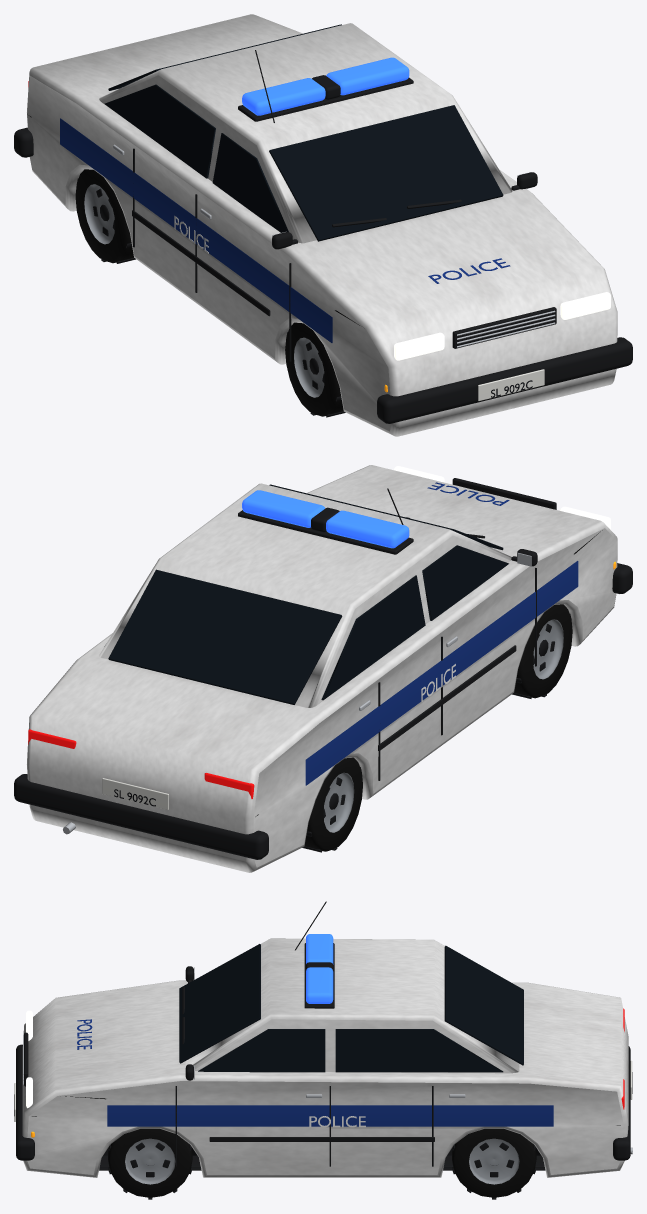
Rendered from auto_policja.glb.
The picture shows the model from 3 angles, top to bottom: view 1: azimuth 30°, elevation 25°; view 2: azimuth 150°, elevation 25°; view 3: azimuth 270°, elevation 25°; orthographic projection. The views are drawn at different scales.
Parts seen in each view (by area): view 1: TintKaroseria, Detale, Kolo3, Kolo1, KogutL, KogutP, Reflektor, Reflektor.001; view 2: TintKaroseria, Detale, Kolo3, Kolo1, KogutL, KogutP; view 3: TintKaroseria, Detale, Kolo4, Kolo2, KogutP, KogutL.
Part boxes in pixels (bbox=[...]): TintKaroseria: bbox=[27, 14, 617, 436]; Detale: bbox=[14, 24, 632, 423]; Kolo3: bbox=[75, 169, 135, 263]; Kolo1: bbox=[285, 322, 345, 417]; KogutL: bbox=[242, 78, 325, 115]; KogutP: bbox=[326, 57, 409, 95]; Reflektor: bbox=[394, 332, 444, 360]; Reflektor.001: bbox=[560, 292, 610, 319]; TintKaroseria: bbox=[27, 465, 617, 872]; Detale: bbox=[14, 478, 632, 859]; Kolo3: bbox=[302, 757, 362, 852]; Kolo1: bbox=[512, 604, 572, 698]; KogutL: bbox=[326, 510, 409, 548]; KogutP: bbox=[242, 490, 324, 527]; TintKaroseria: bbox=[22, 938, 628, 1177]; Detale: bbox=[14, 901, 632, 1170]; Kolo4: bbox=[452, 1128, 536, 1199]; Kolo2: bbox=[108, 1128, 192, 1199]; KogutP: bbox=[306, 967, 333, 1003]; KogutL: bbox=[306, 934, 333, 964].
Size of the model in its own units: 1.83 by 1.82 by 4.54.
Materials: 15 (1 with a texture image).
